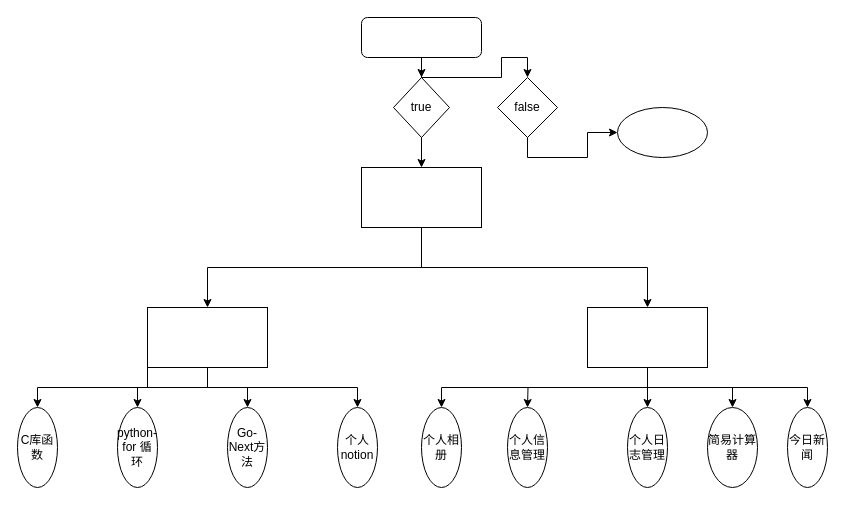
Image size: 845x505. Some labels were removed from this diagram. Here are the shapes that lost their labels. From the top down, the centre of each, then its label:
At point 421,37: "Login".
At point 662,132: "退出".
At point 421,197: "博客界面".
At point 207,337: "文章推荐".
At point 647,337: "在线工具".
